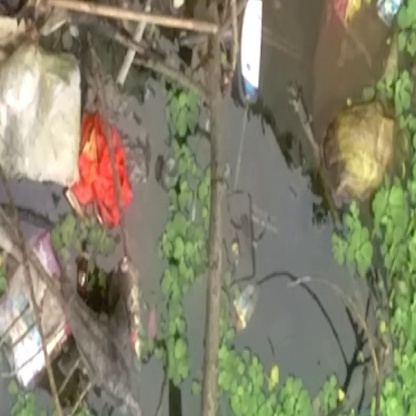bottle: (235, 1, 270, 100)
